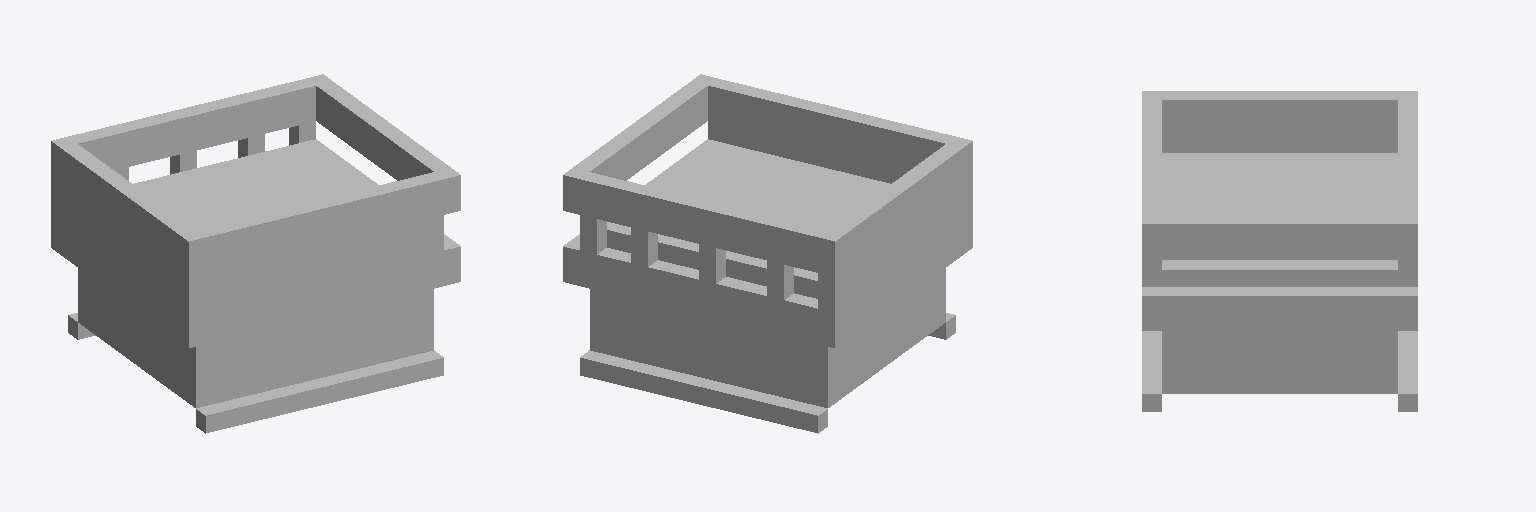
Rendered from cuna.obj.
3 renders of one model, left to right at view 1: azimuth 30°, elevation 25°; view 2: azimuth 150°, elevation 25°; view 3: azimuth 270°, elevation 25°, orthographic.
Parts seen in each view (by area): view 1: cube; view 2: cube; view 3: cube.
Part boxes in pixels (bbox=[...]): cube: bbox=[51, 74, 460, 433]; cube: bbox=[563, 74, 972, 433]; cube: bbox=[1142, 91, 1417, 411].
Bounding box in the file's own units: 1 × 0.6875 × 0.875.